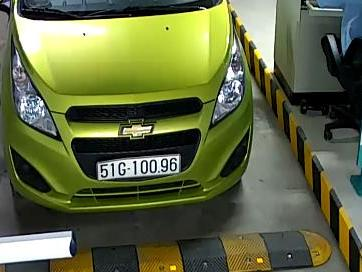number: (97, 155, 183, 179)
